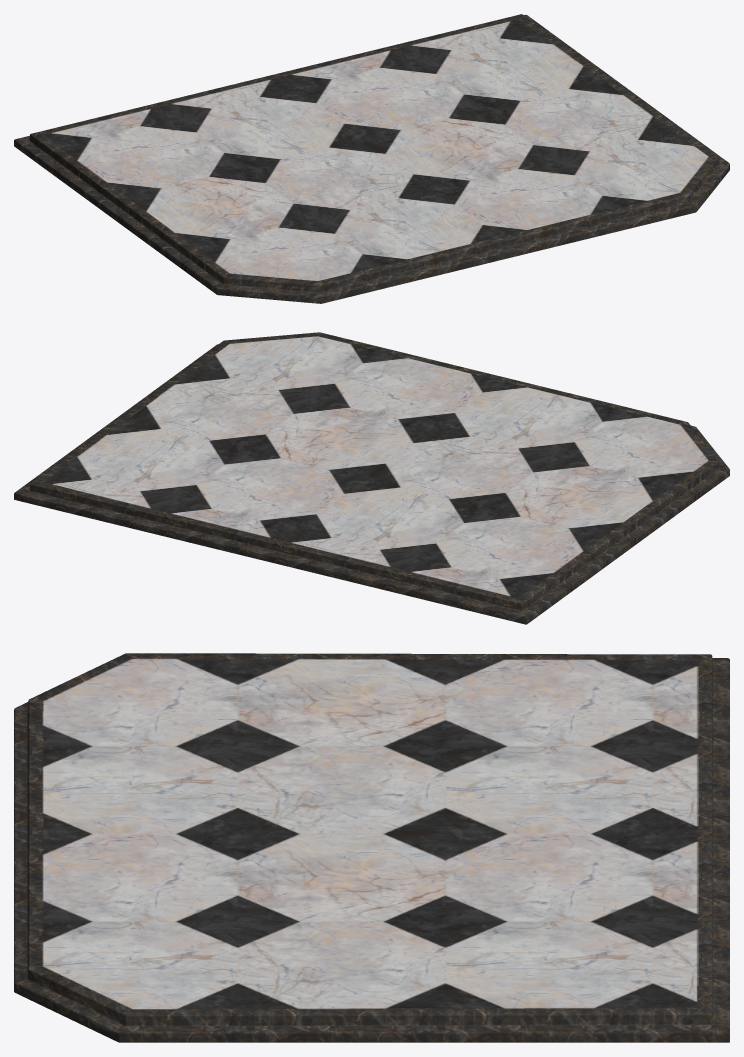
The model's file is Stage_B.fbx.
The picture shows the model from 3 angles, top to bottom: view 1: azimuth 30°, elevation 25°; view 2: azimuth 150°, elevation 25°; view 3: azimuth 270°, elevation 25°; orthographic projection. The views are drawn at different scales.
Visible parts, largest first — view 1: Stage_B; view 2: Stage_B; view 3: Stage_B.
Boxes of the visible parts, x1,y1,x2,y2 form: Stage_B: (14, 14, 729, 303); Stage_B: (14, 332, 729, 624); Stage_B: (14, 653, 729, 1042).
Bounding box in the file's own units: 16.97 × 0.4446 × 13.68.
